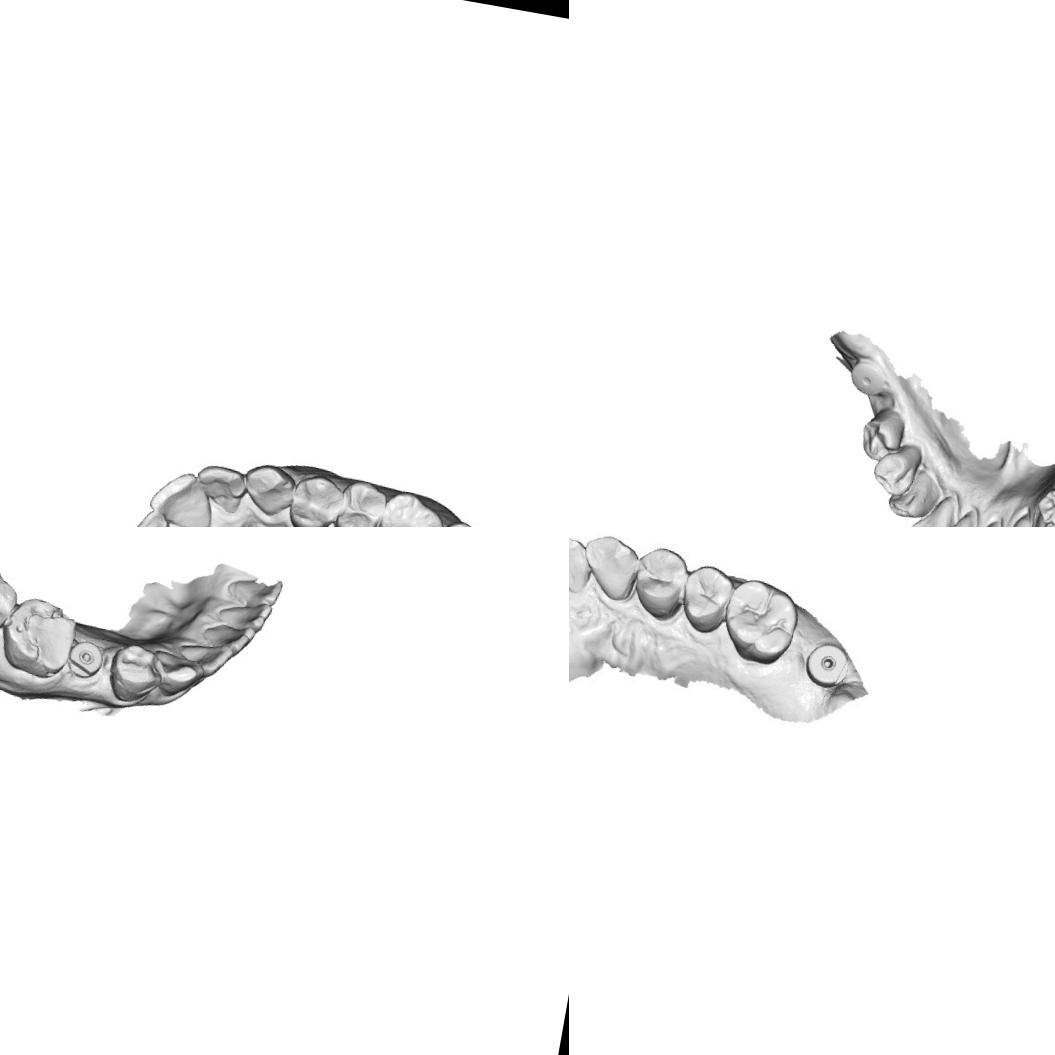canine: (579, 533, 644, 603), (237, 456, 300, 522), (867, 437, 924, 500), (147, 644, 208, 702), (884, 466, 944, 524), (1019, 505, 1055, 527)
implant: (798, 639, 856, 695), (845, 353, 889, 400), (64, 636, 108, 682)
incisor: (143, 464, 219, 527), (188, 460, 250, 516), (174, 632, 234, 680), (196, 614, 258, 658), (209, 592, 273, 633), (220, 572, 285, 610), (569, 532, 597, 598), (903, 504, 950, 527)
molar: (720, 574, 800, 668), (0, 591, 80, 683), (368, 484, 451, 527), (0, 549, 25, 649)
premolar: (103, 638, 165, 708), (678, 562, 735, 636), (630, 546, 686, 618), (283, 467, 347, 527), (854, 404, 907, 464), (329, 474, 388, 527), (1031, 478, 1055, 527)
